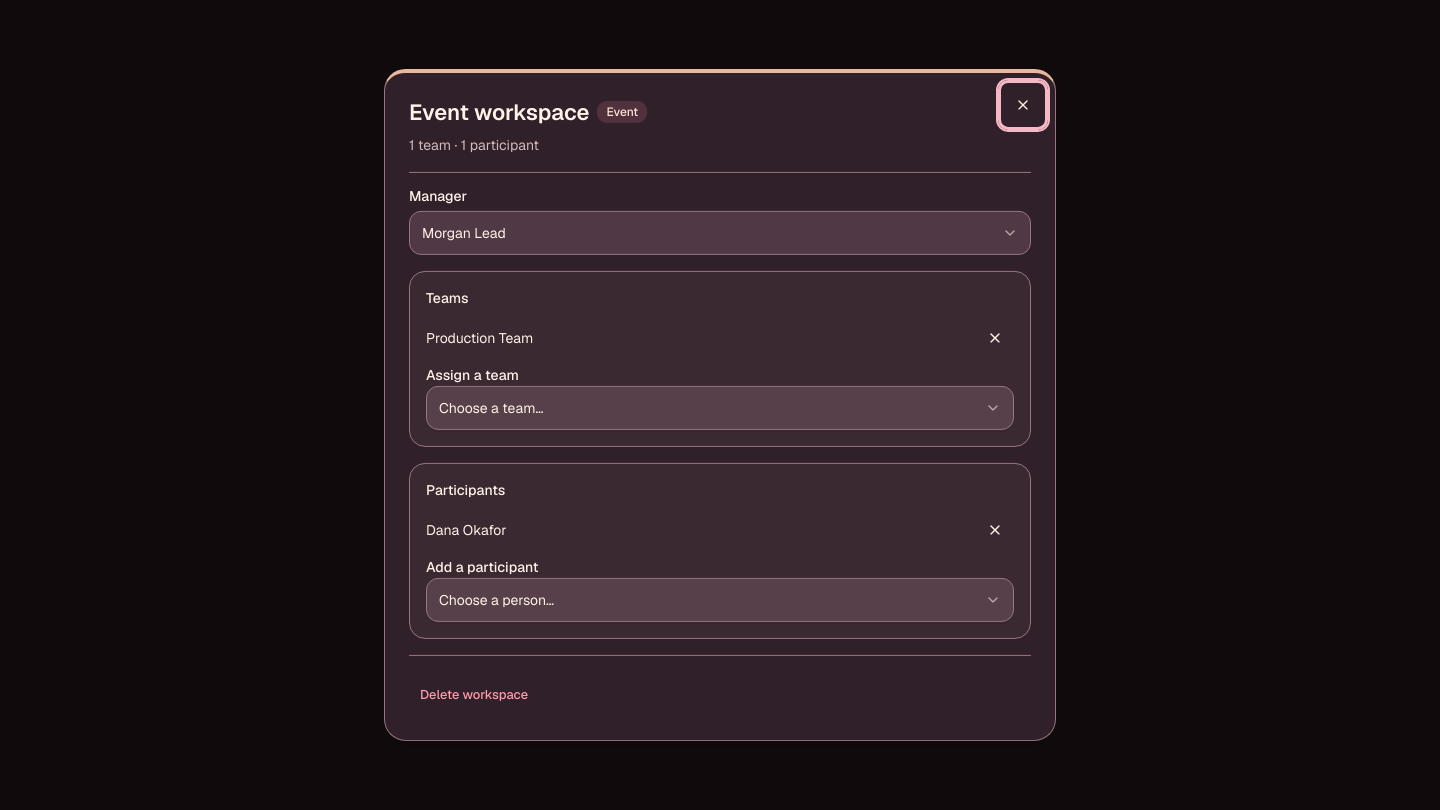
Scenario: WorkspaceDetailDialog › surfaces an action failure without closing
Check: the heading "Event workspace" is shown, box [409, 97, 590, 128]
What coordinates should you click on to do the following:
click the dropdown named "Manager"
I would click on:
 (464, 233)
Its box is [409, 211, 1031, 255].
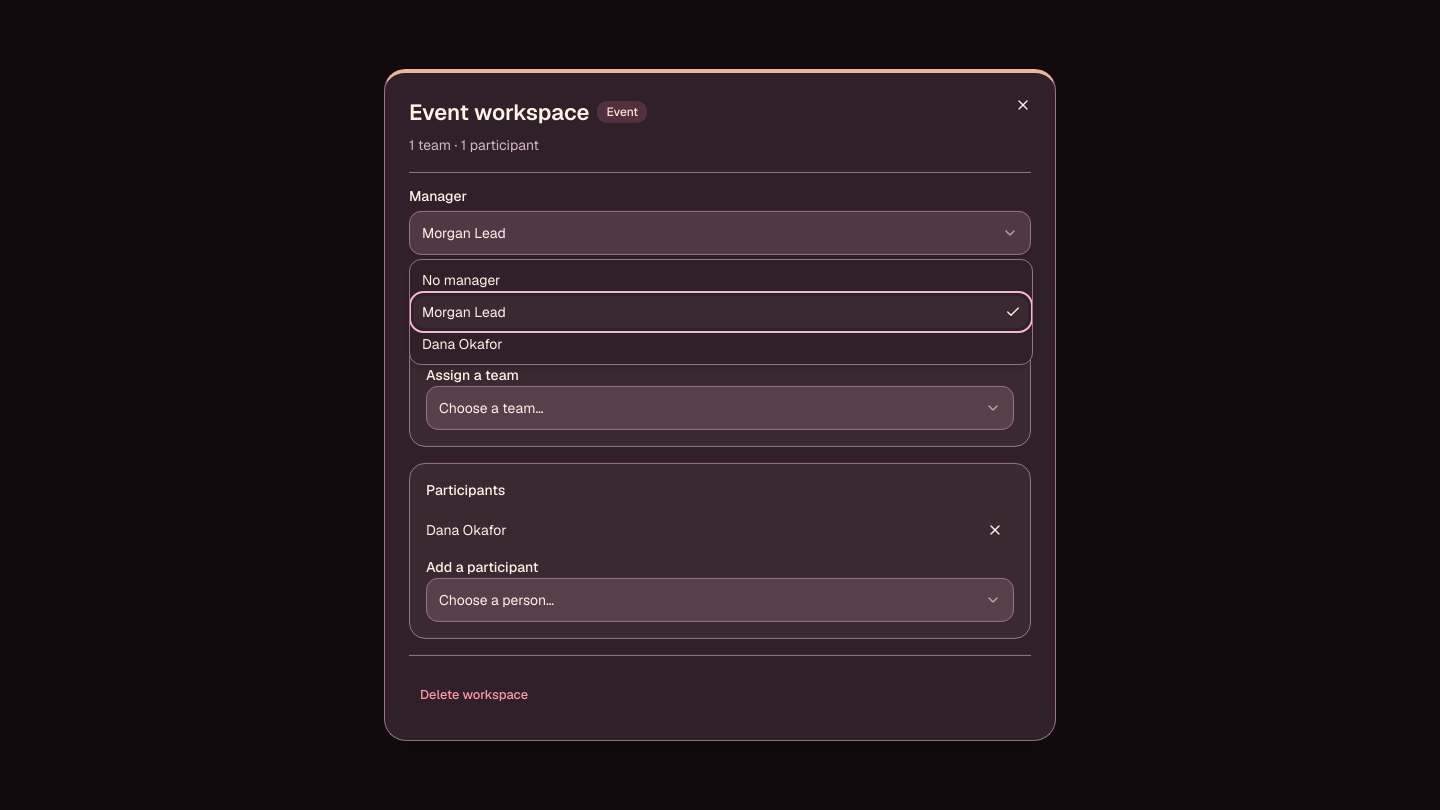
What coordinates should you click on to do the following:
click the option "Dana Okafor"
I would click on:
 (462, 344)
Its box is [422, 335, 502, 353].
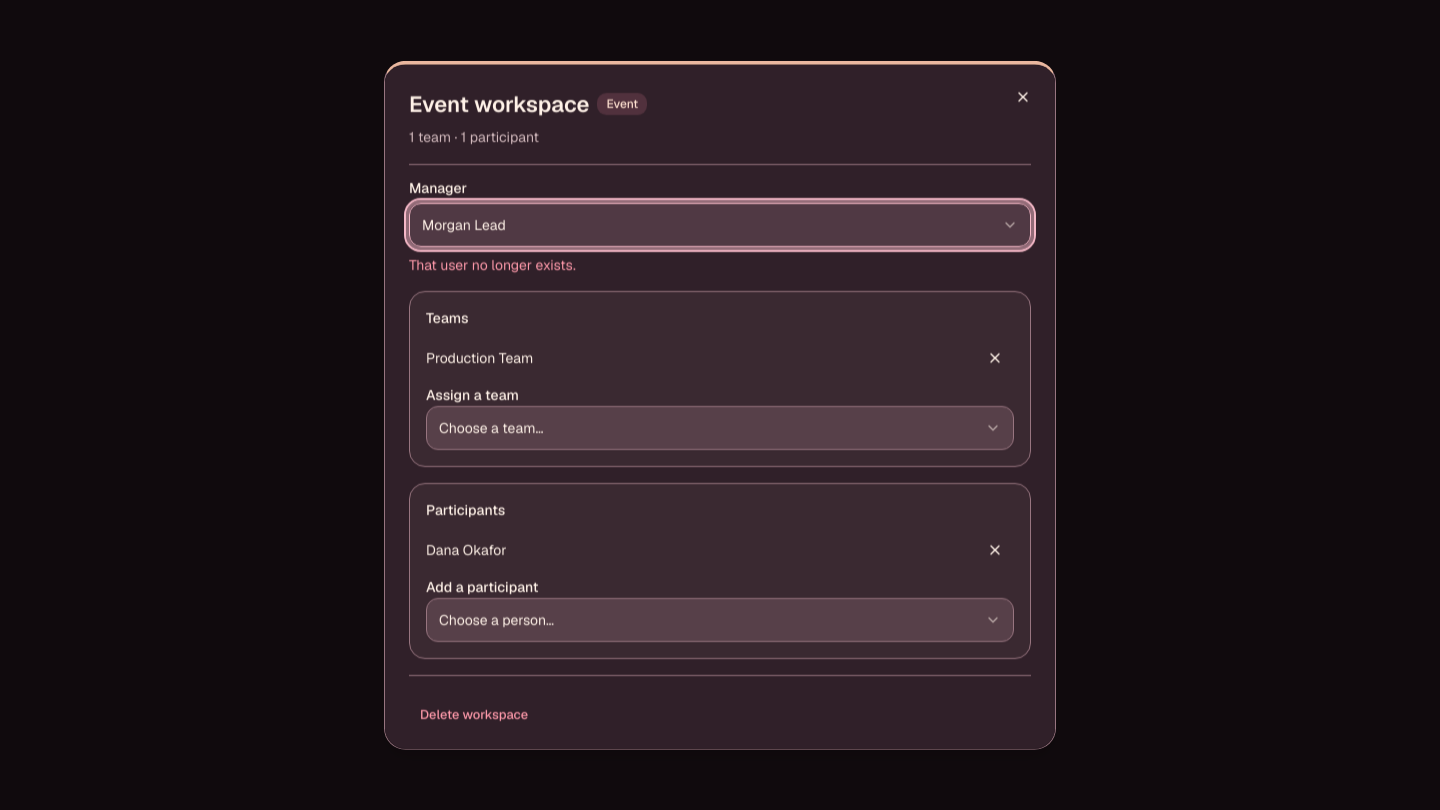
Check: the text "That user no longer exists." is shown, box [409, 256, 576, 274]
